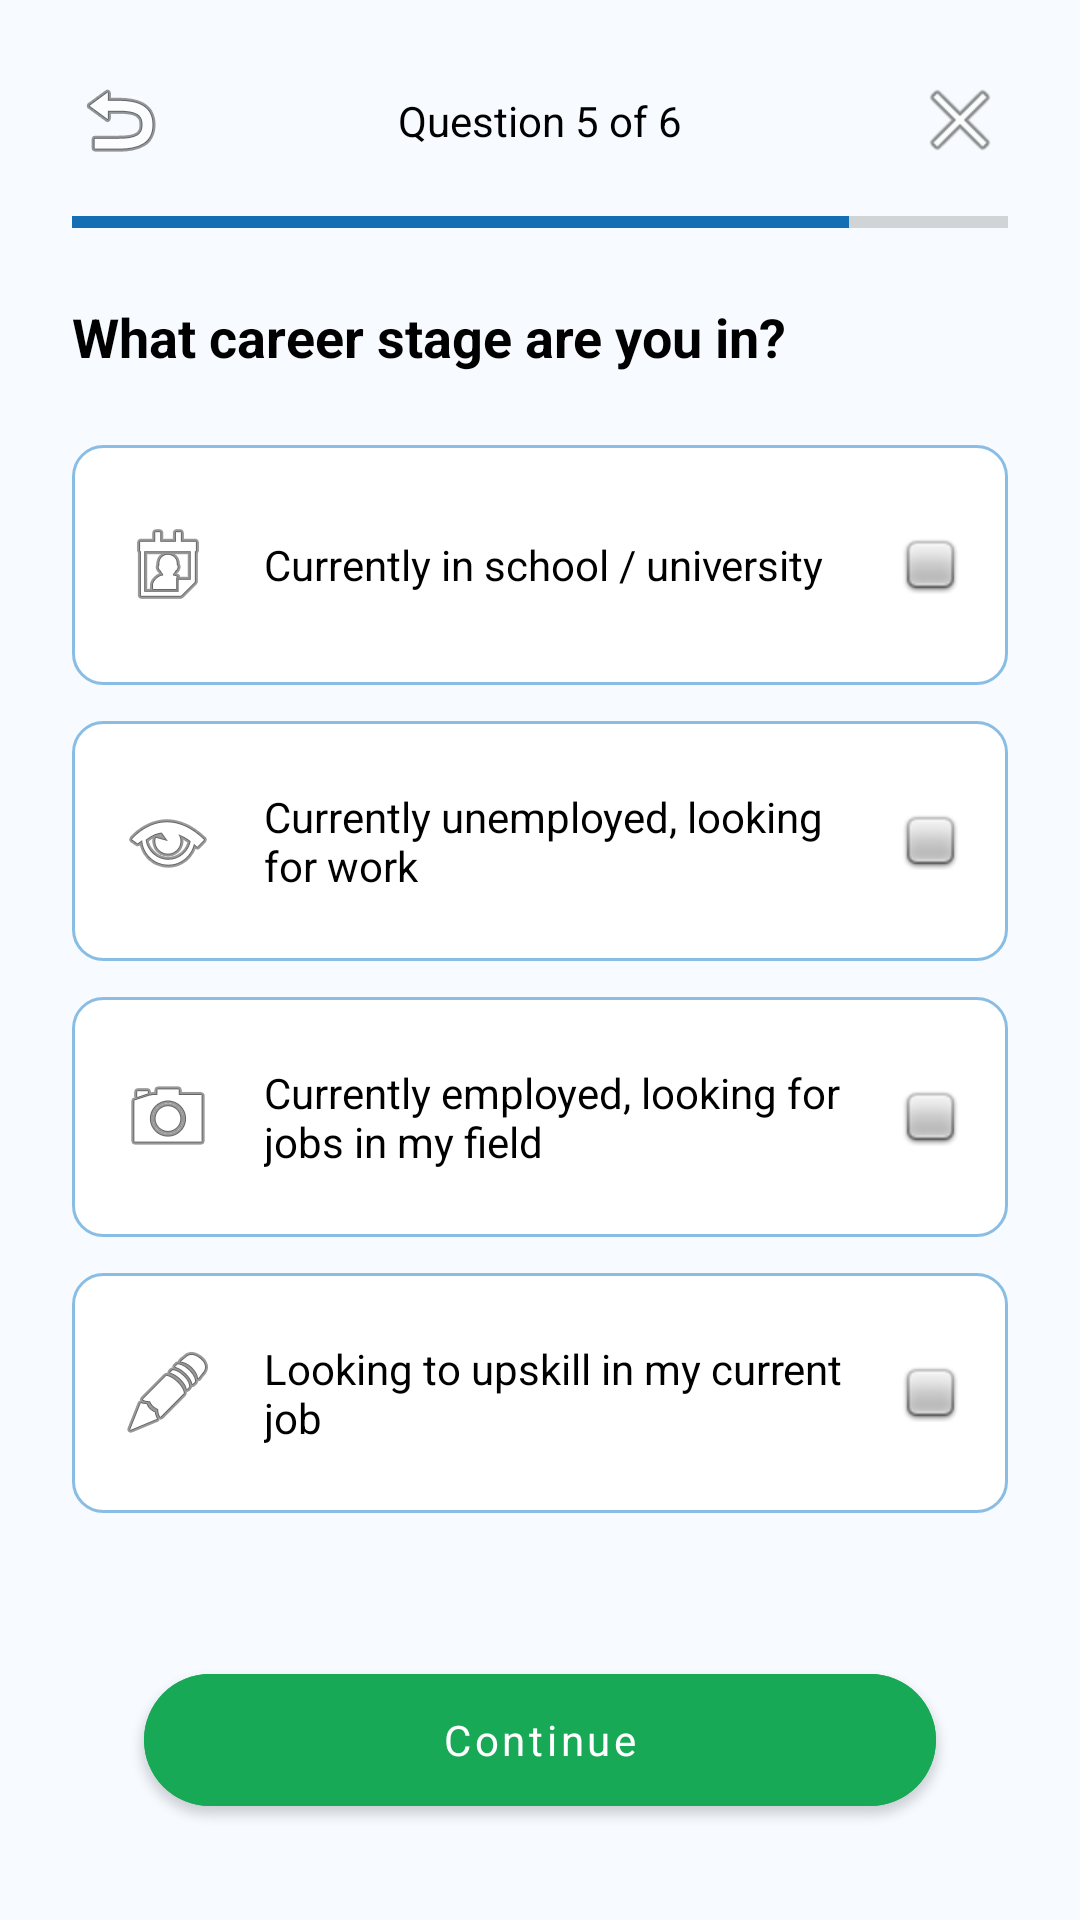

Screen size 1080 x 1920. Icon name, then its center in pixels as [x,y]:
close clear cancel: [960,120]
revert: [121,120]
